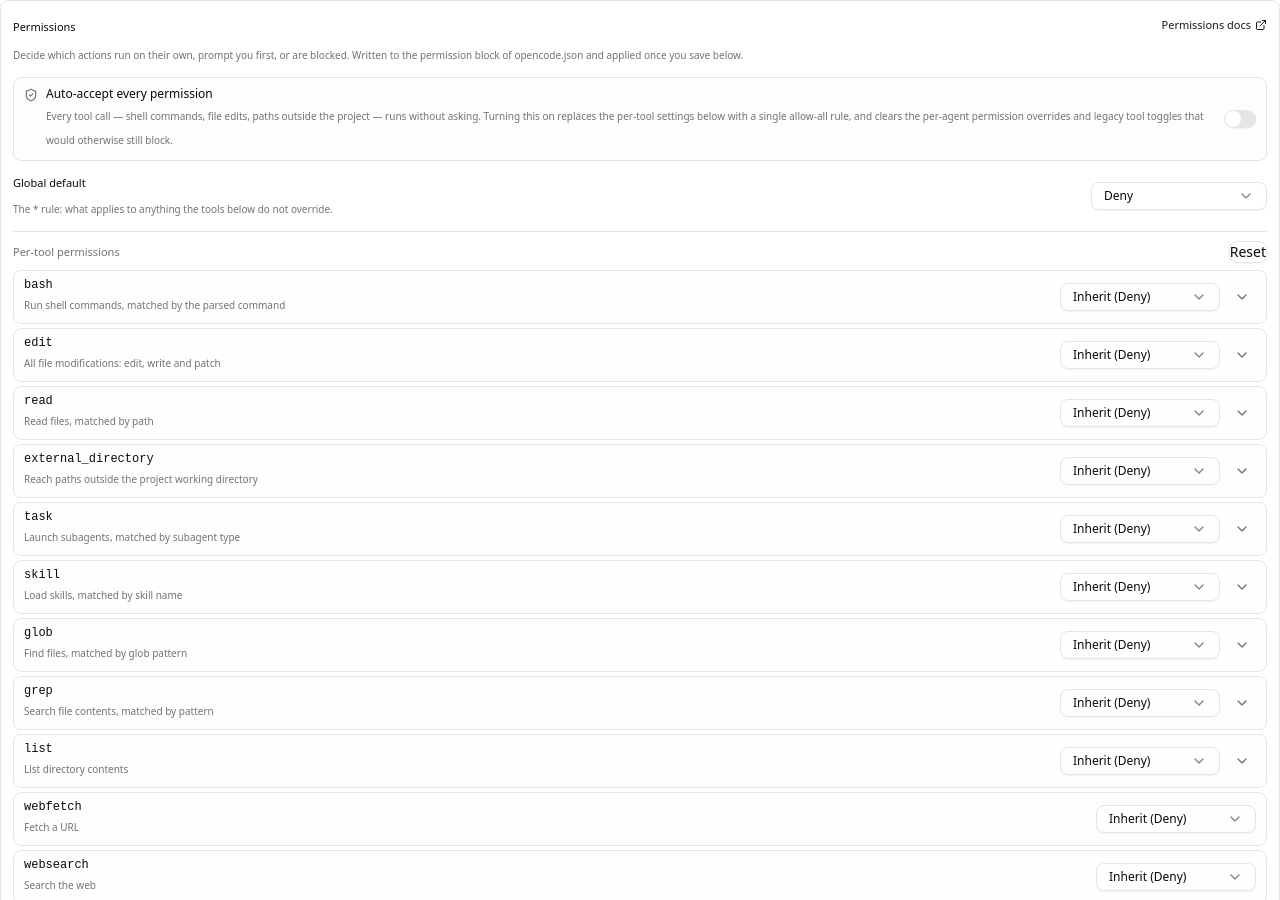
Test: OpenCodePermissionsSection › reset clears the block but keeps the rest of the config
The width and height of the screenshot is (1280, 900).
Click the button "Reset".
click(1248, 252)  # box [1229, 241, 1267, 263]
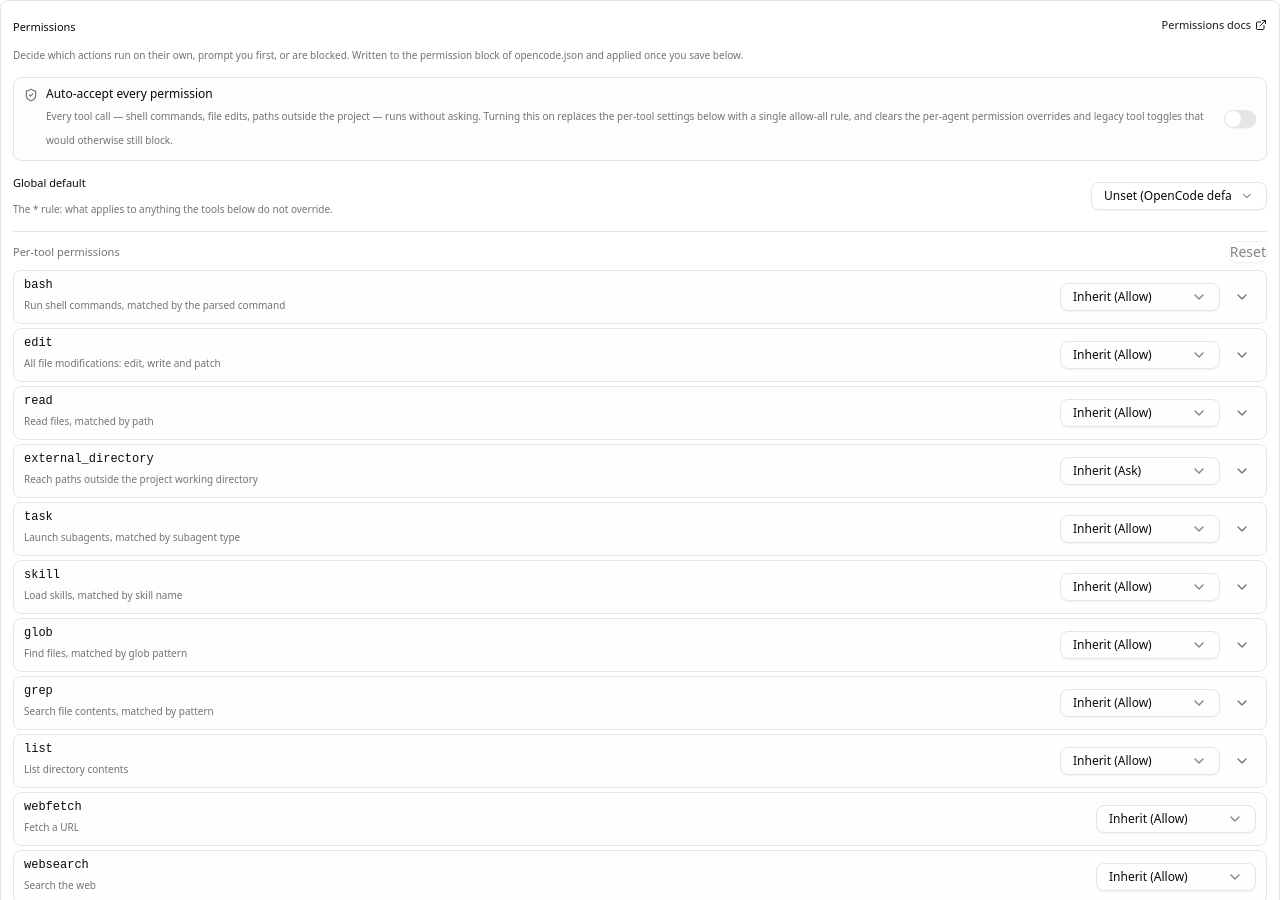
Now the button "Reset" is disabled, box [1229, 241, 1267, 263]
